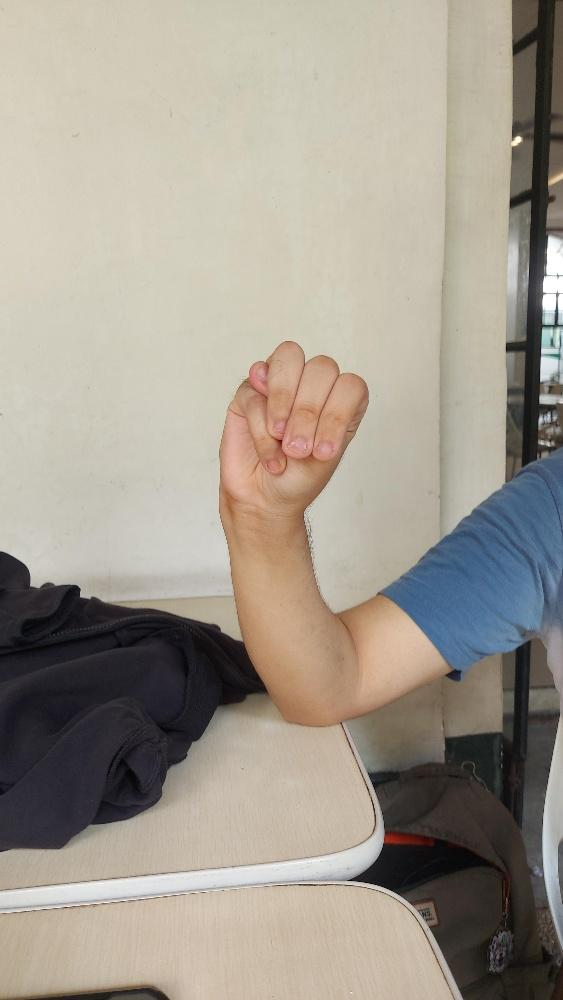m: (217, 339, 369, 516)
